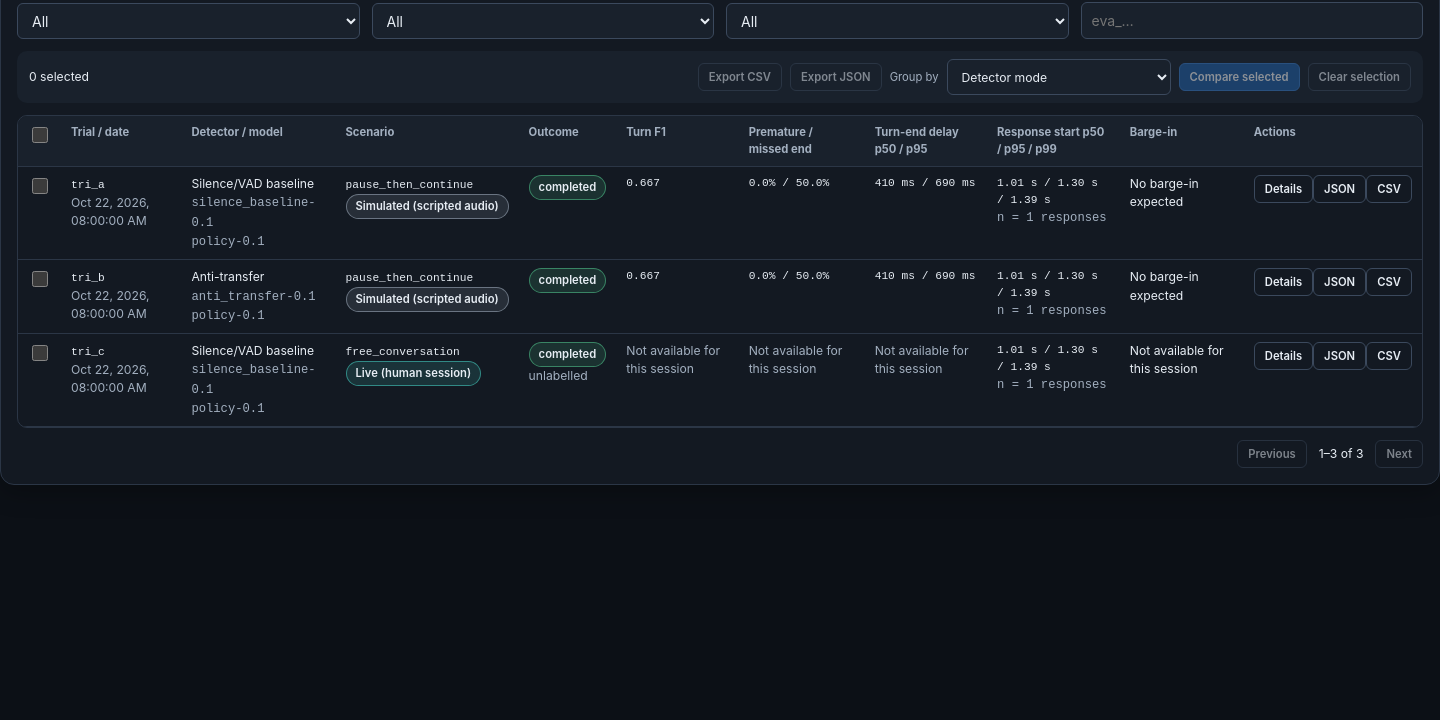
it: ResultsPage › lists trials, hides accuracy for unlabelled trials, and compares a selection without ranking
expect the text "1–3 of 3" is shown: met, box [1319,445,1364,463]
expect the 1st text "Not available for this session" is shown: met, box [616,334,739,427]
Step 1. Click the checkbox named "Select trial tri_a" → (40,186), box [32,178,48,194]
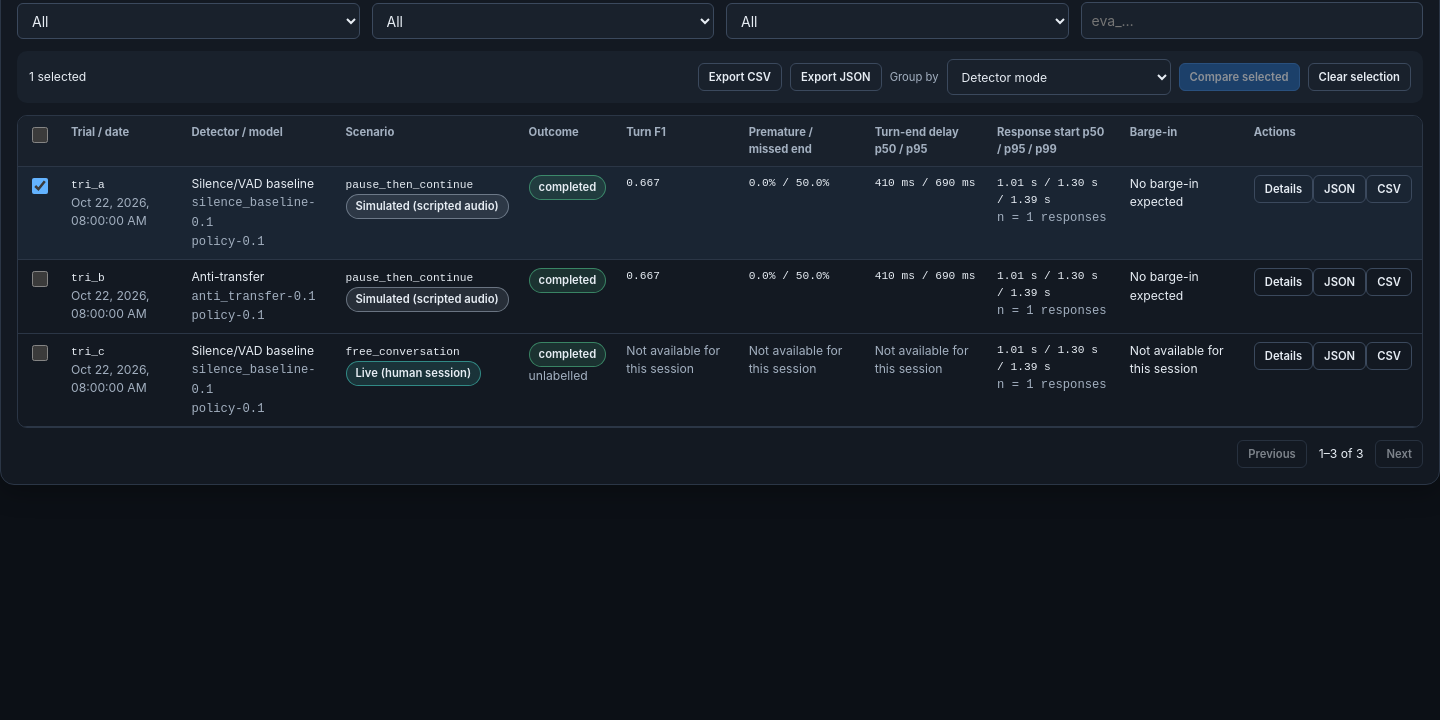
Step 2. Click the checkbox named "Select trial tri_b" → (40,279), box [32,271,48,287]
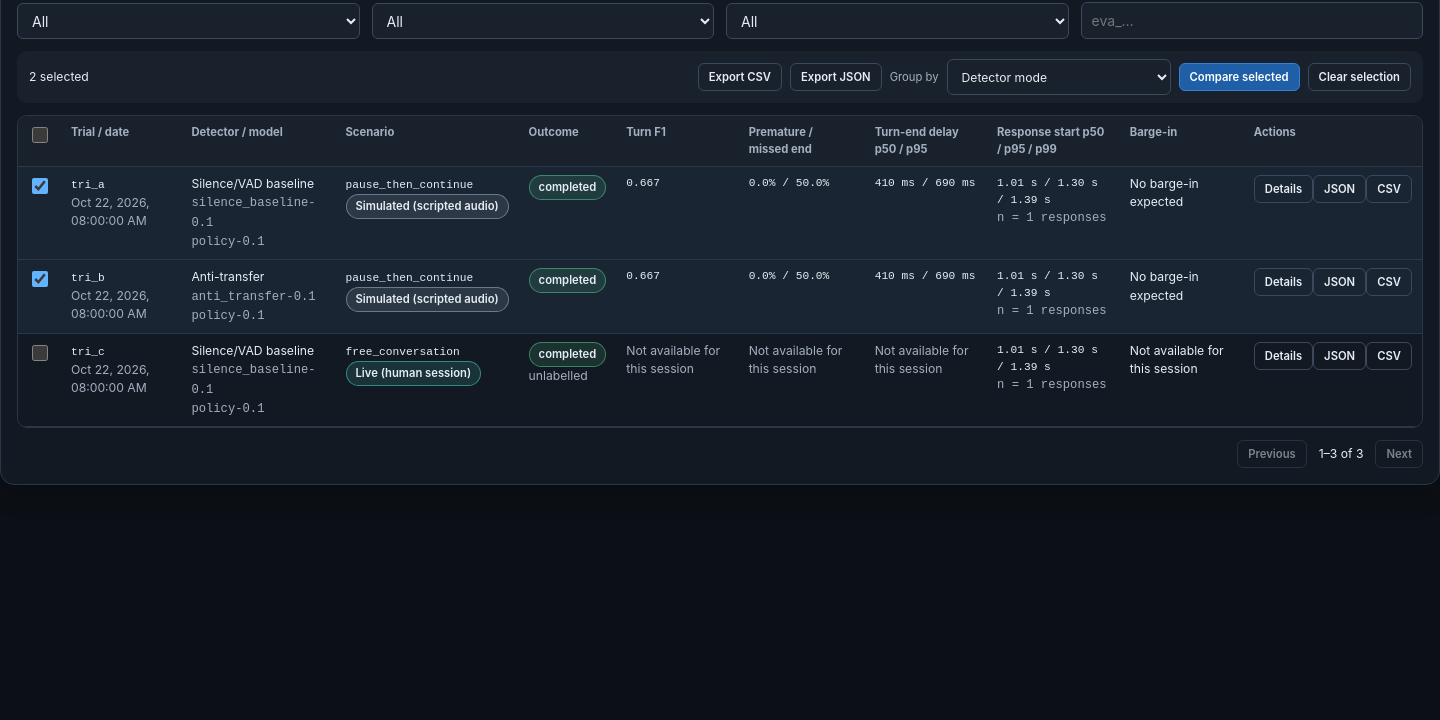
Step 3. Click the button "Compare selected" → (1239,77), box [1178,63,1300,91]
(page scrolled)
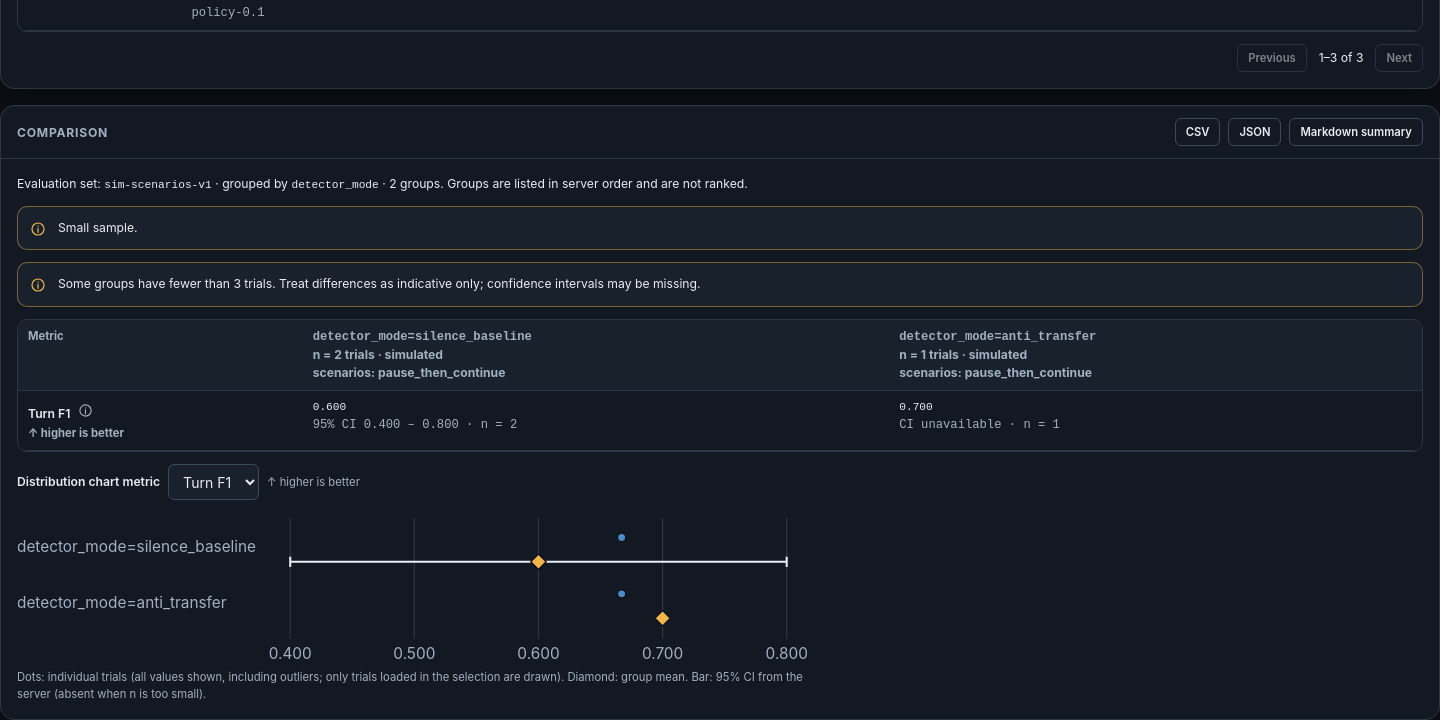
expect the text "sim-scenarios-v1" is shown: met, box [104,179,212,191]
expect the text "Small sample." is shown: met, box [58,219,138,237]
expect the text "↑ higher is better" in the row of "95% CI 0.400 – 0.800" is shown: met, box [28,426,124,440]
